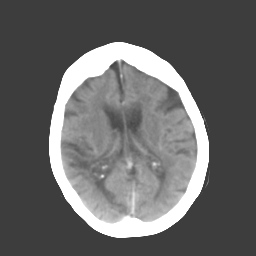ischemic: (81, 111, 108, 152)
